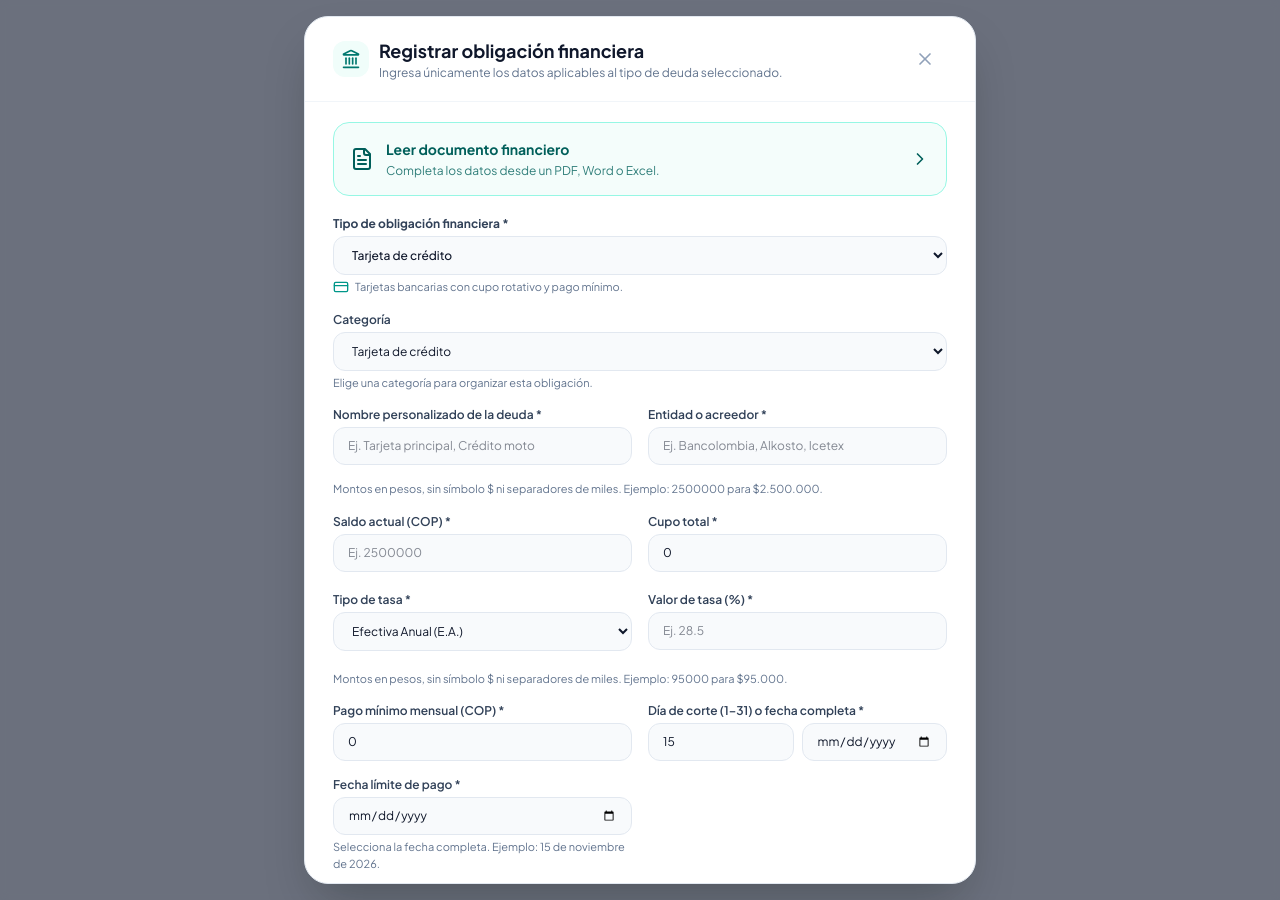
AddDebtModal - EP-06 (HU-023 a HU-033) › HU-023: Selector de tipo y validaciones comunes › al cambiar de tipo adapta los campos y limpia valores incompatibles (CA-02, TT-023.2)
# Cambiar a Crédito hipotecario
Select "Crédito hipotecario / vivienda" in the dropdown labelled "Tipo de obligación financiera *" at (640, 256), box [333,236,947,275]
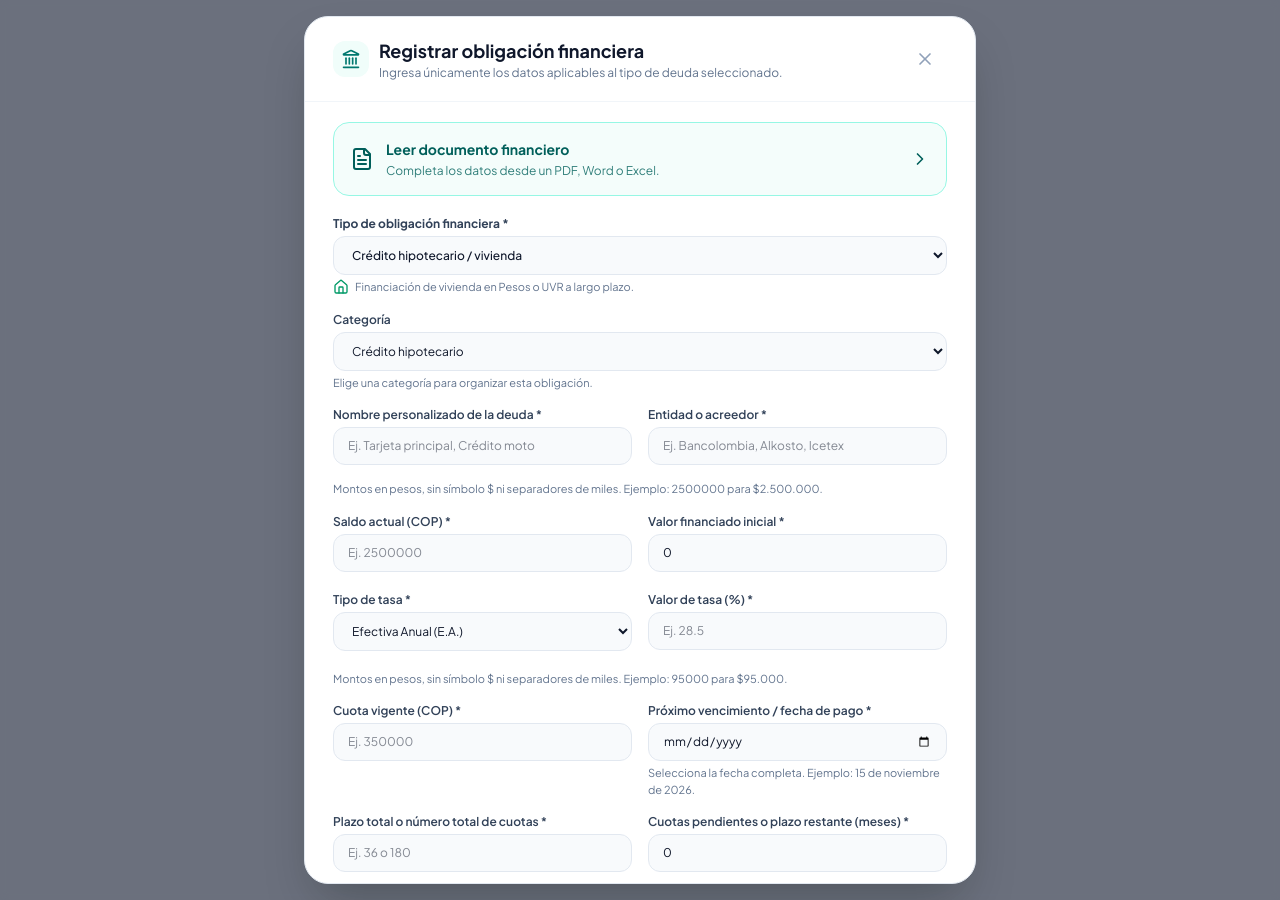
# Cambiar a Factura vencida
Select "Factura u obligación vencida" in the dropdown labelled "Tipo de obligación financiera *" at (640, 256), box [333,236,947,275]
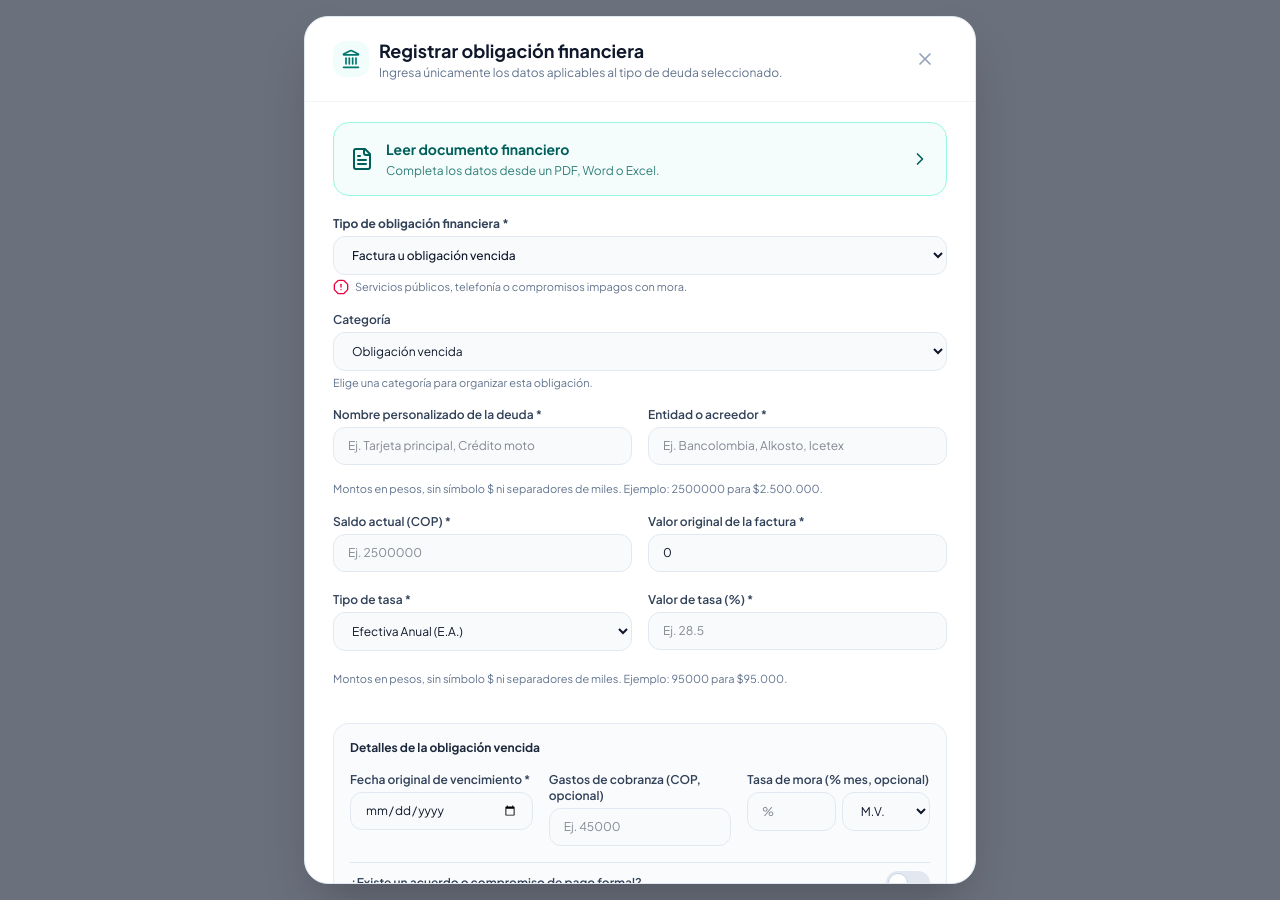
Expected: the date field labelled "Fecha original de vencimiento *" is shown, [350,792,533,830]
